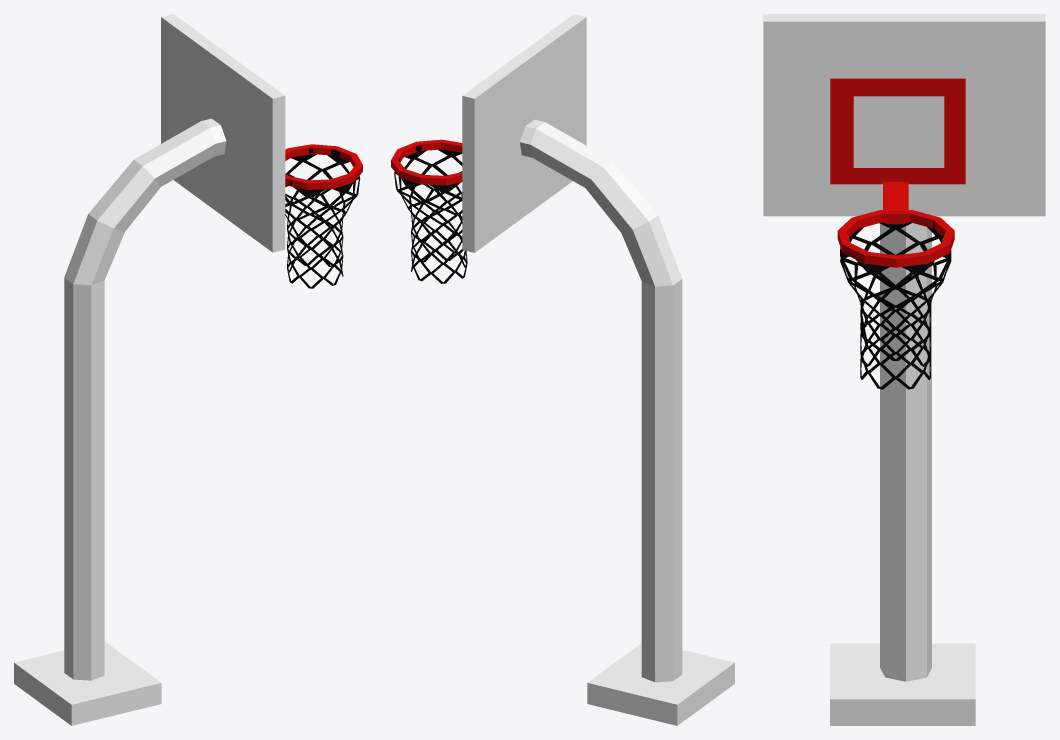
File: Basketball hoop.FBX
3 views of the same model, side by side, from view 1: azimuth 30°, elevation 25°; view 2: azimuth 150°, elevation 25°; view 3: azimuth 270°, elevation 25° (orthographic). The views are drawn at different scales.
Visible parts, largest first — view 1: polySurface12; view 2: polySurface12; view 3: polySurface12.
Boxes of the visible parts, bbox=[...] form: polySurface12: bbox=[14, 14, 362, 725]; polySurface12: bbox=[391, 14, 734, 725]; polySurface12: bbox=[763, 14, 1045, 725].
Size of the model in its own units: 156 by 289 by 96.96.
